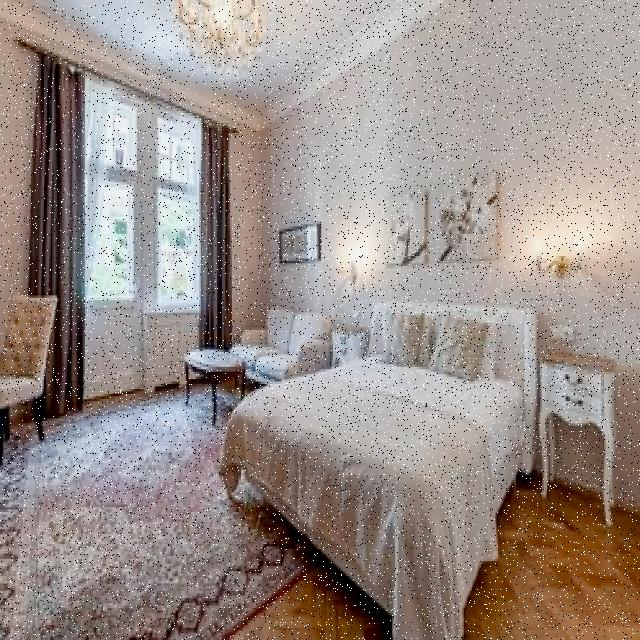bed: (234, 296, 536, 616)
